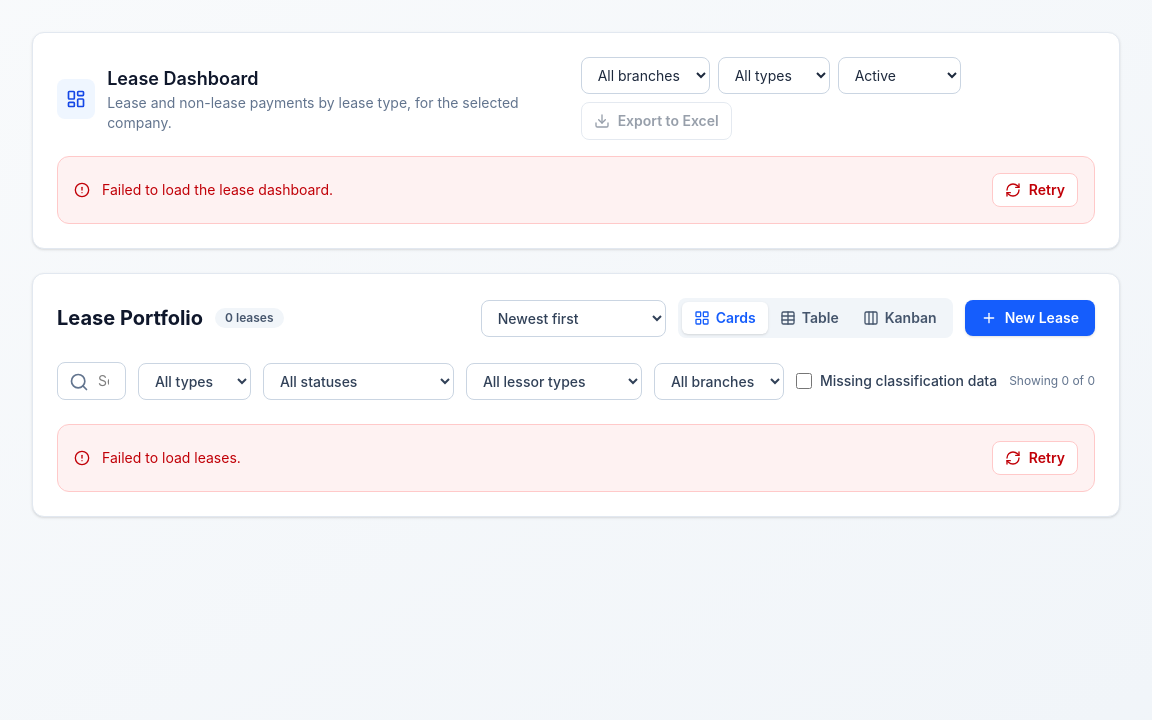
Test: lease portfolio screen › shows an inline error with a working Retry when the leases fail to load
The image size is (1152, 720).
Expected: the number of messages is 2, [57, 156, 1095, 224]; [57, 424, 1095, 492]
Click the button "Retry" in the row of "Failed to load the lease dashboard." at [1035, 190], box [992, 173, 1078, 207]
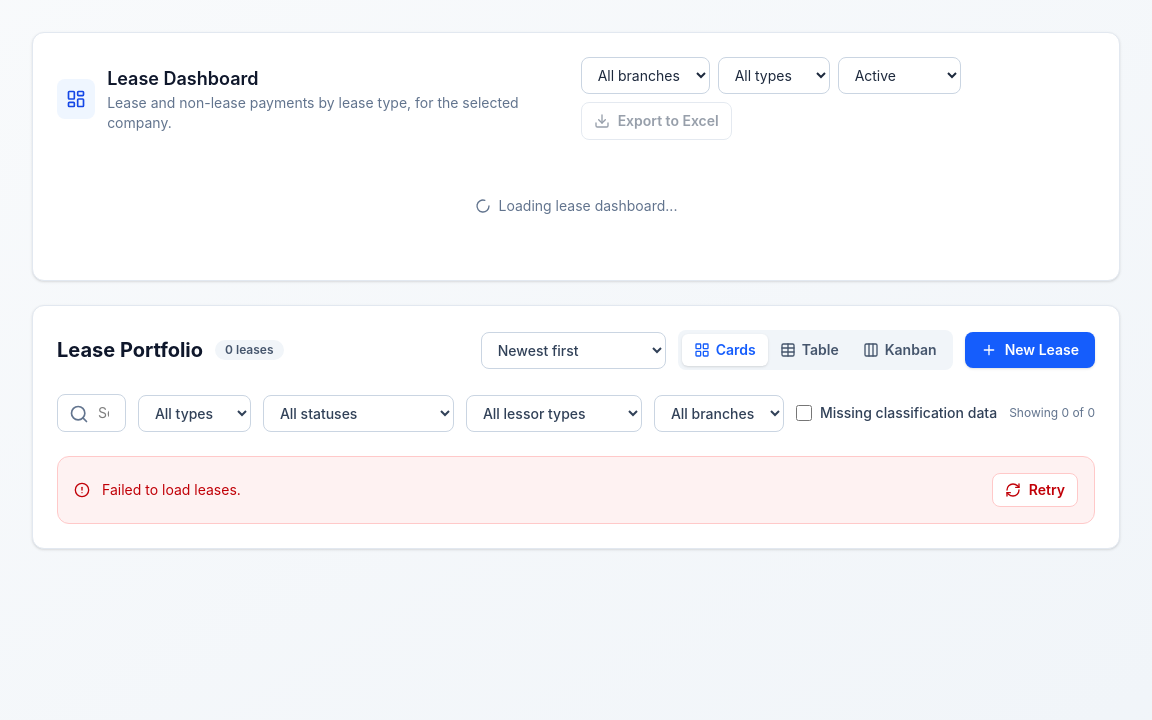
Click the button "Retry" at [1035, 490], box [992, 473, 1078, 507]
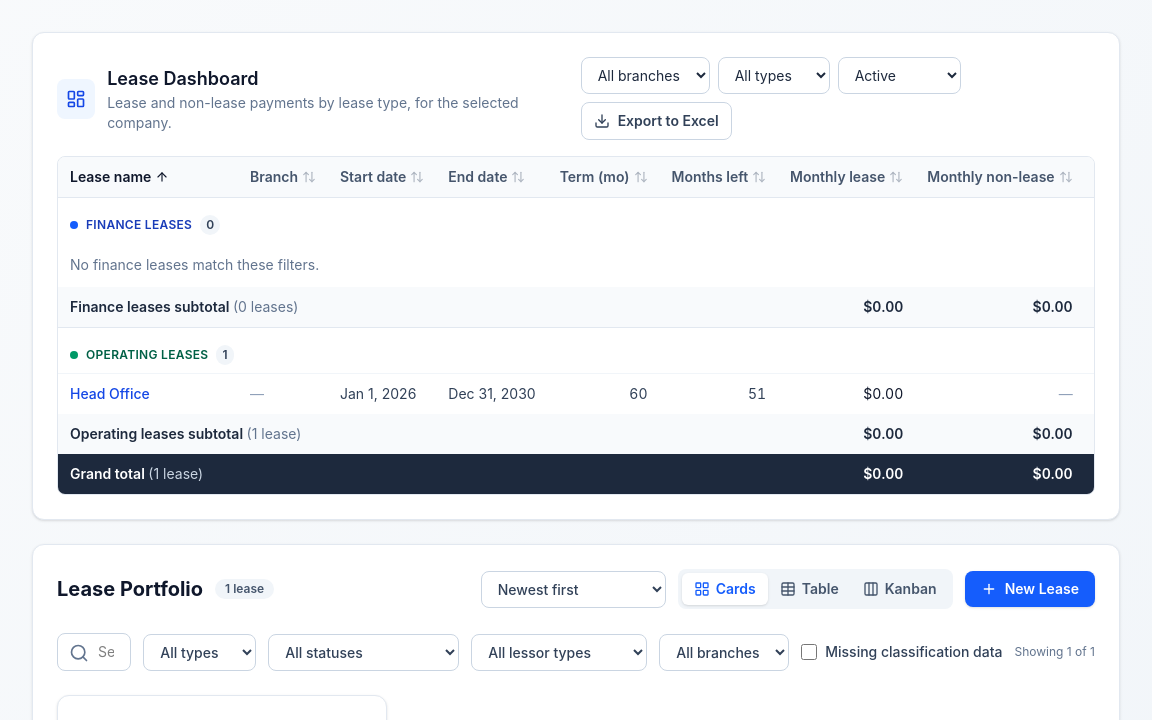
Expected: the message "Failed to load leases. Retry" is gone
Expected: the button "Head Office" is shown, [70, 384, 150, 404]
